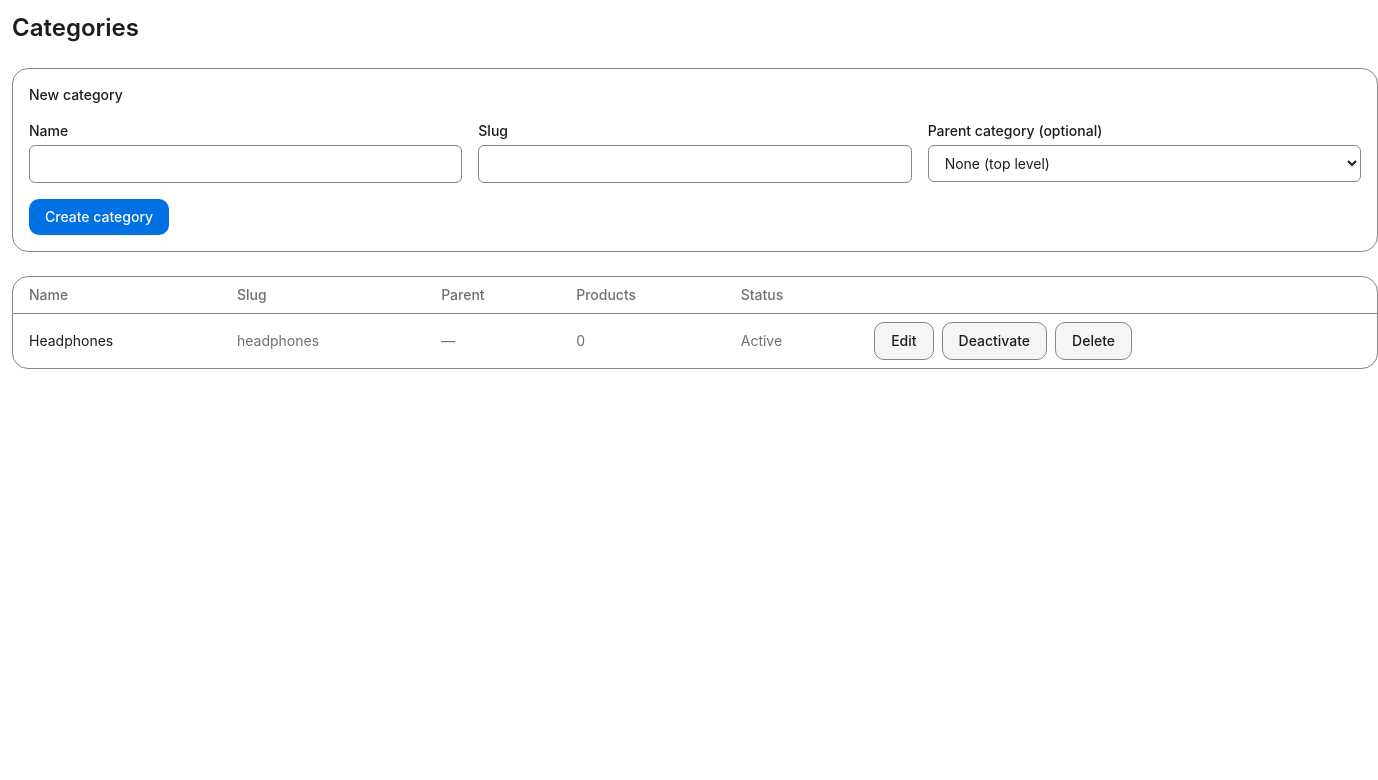
Test: AdminCategoriesPage › shows an error toast when delete is blocked by product references
Expected: the cell "Headphones" is shown, [13,314,221,368]
Click the button "Delete": (1094, 341) [1055,322,1132,360]
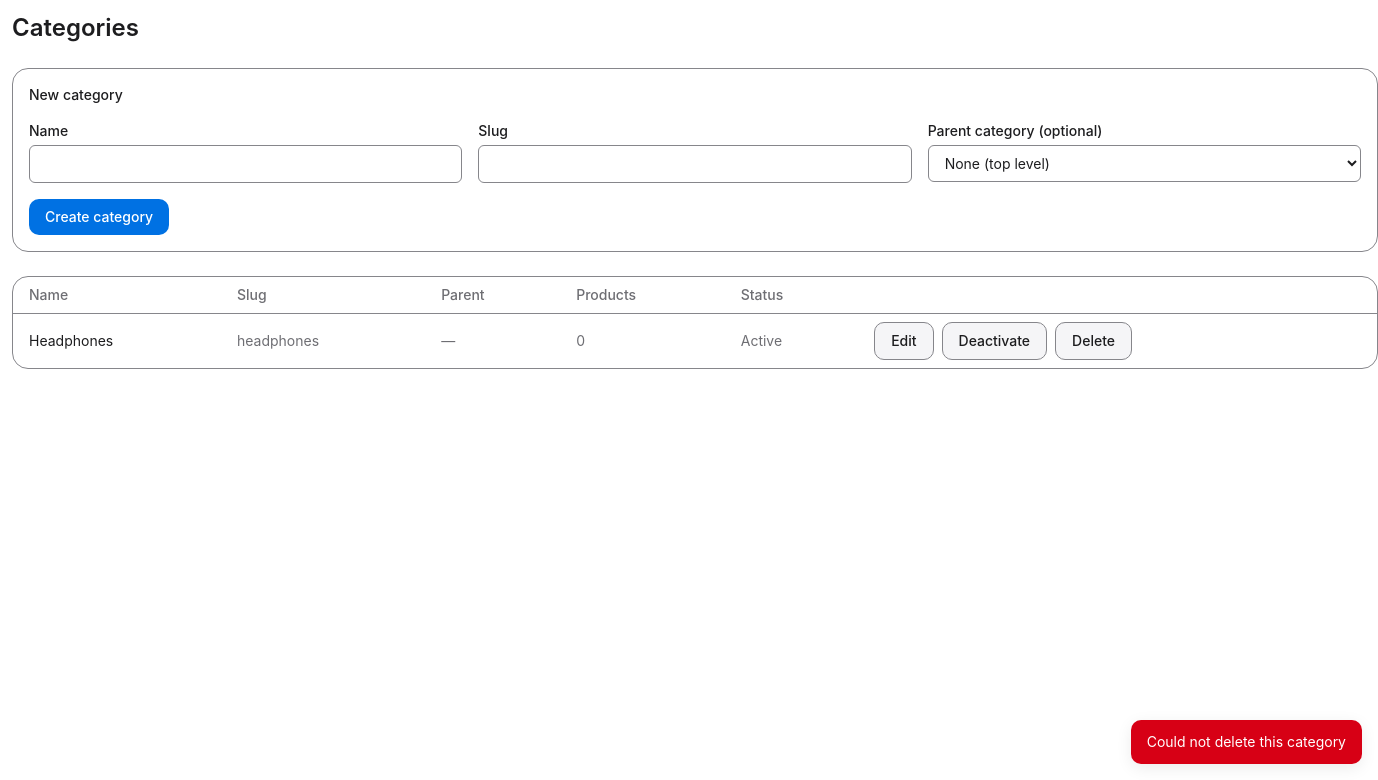
Expected: the text "Could not delete this category" is shown, [1131,720,1362,764]
